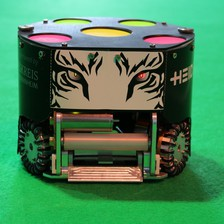robot: (8, 12, 198, 190)
